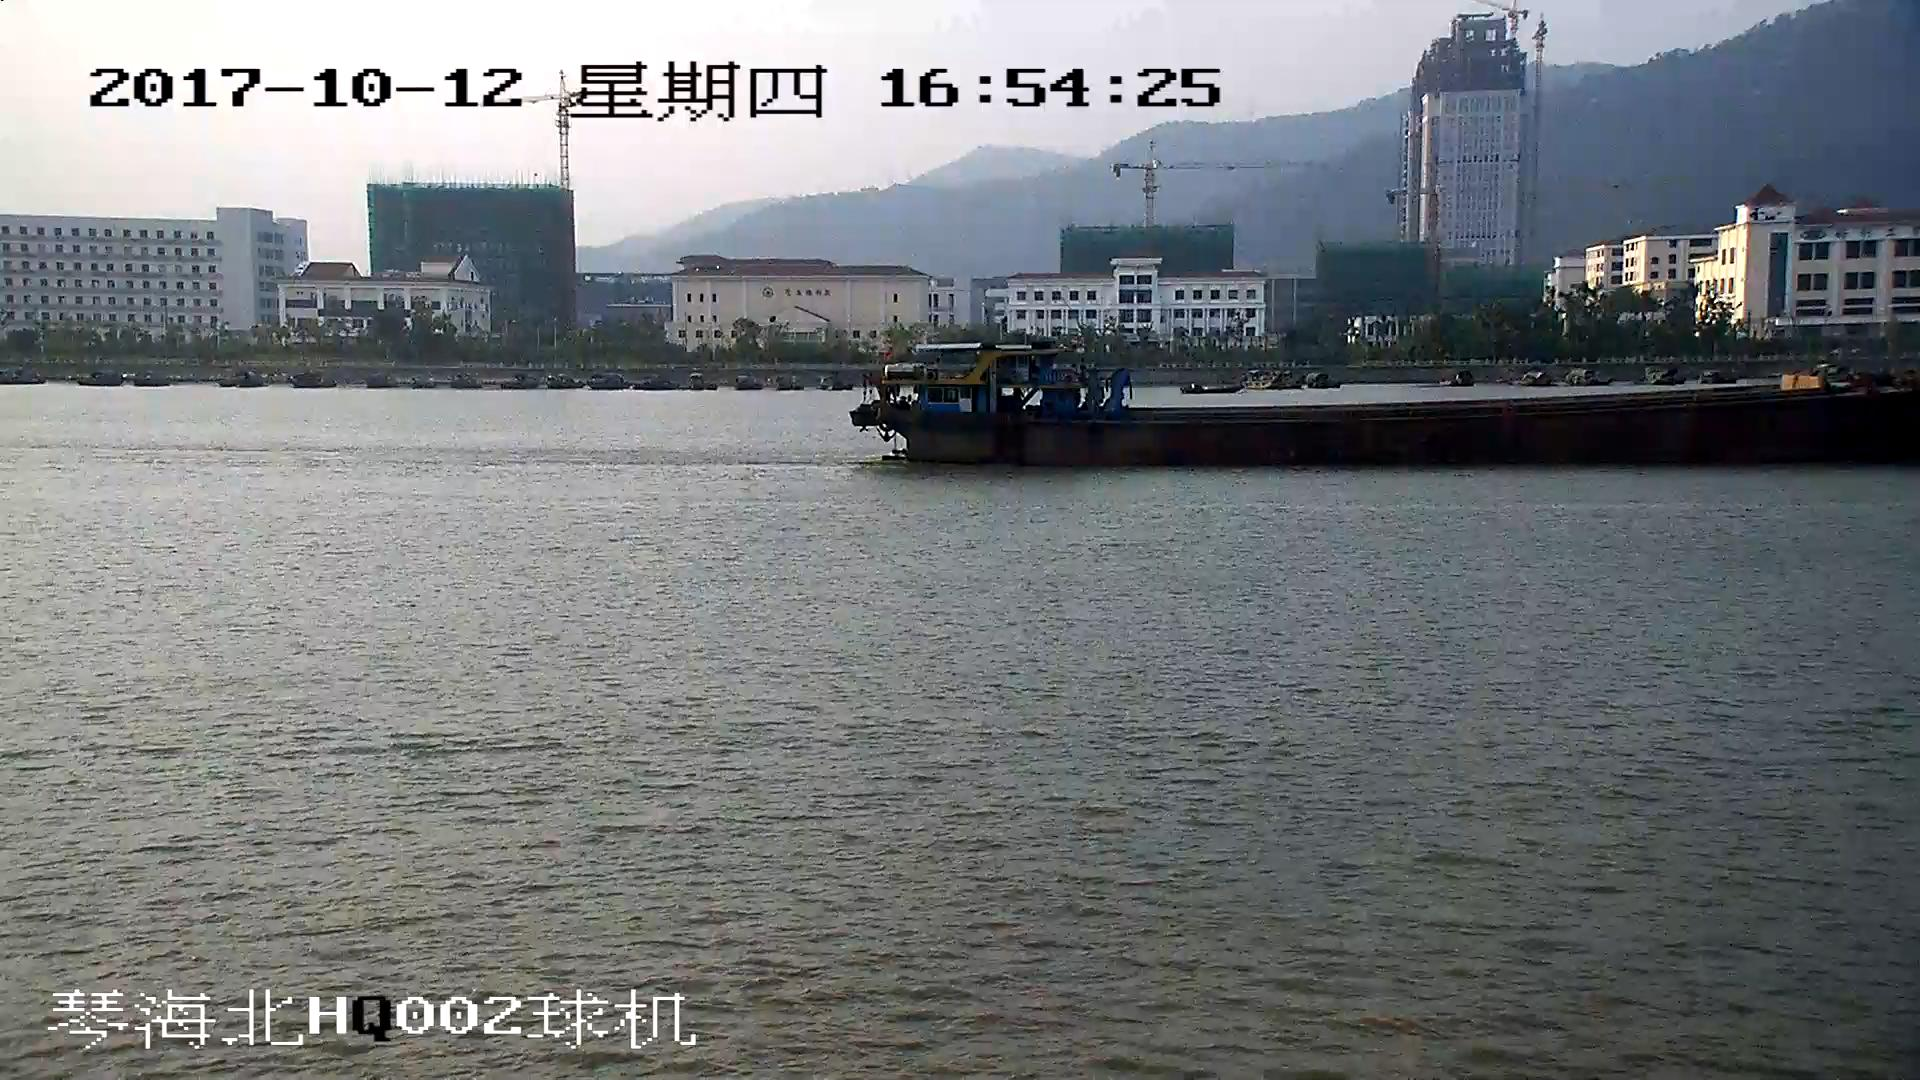bulk cargo carrier: (852, 344, 1920, 460)
